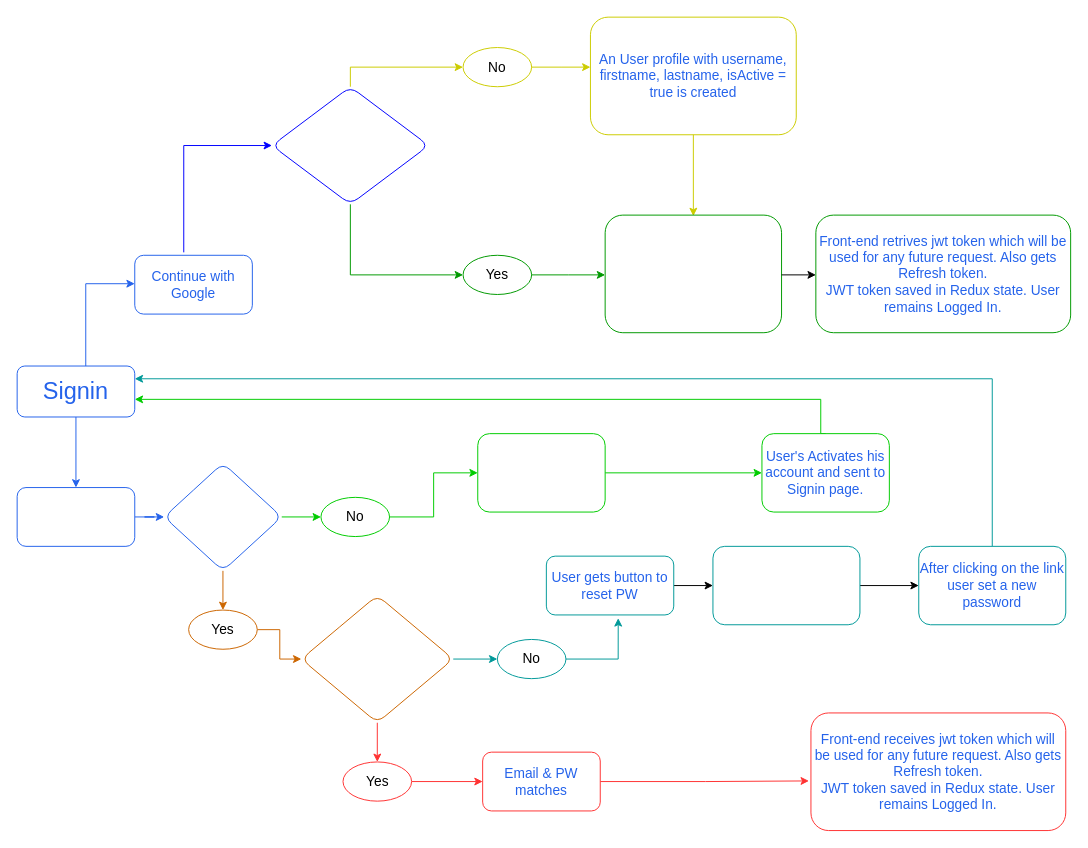
This 1088x848 diagram has some shape labels left out. Each missing label, with the centre of its shape:
Check if Email & PW matches: pixel 376 658
Check if user is Active?: pixel 222 516
Check if user profile with user's email exists?: pixel 350 145
User gets button to receive Activation email again: pixel 541 472
User insert his email and receives link to reset PW: pixel 786 585
User is sent to front-end with Secret JWT token as "auth_cookie" cookie: pixel 693 273
With email & Password: pixel 75 516
